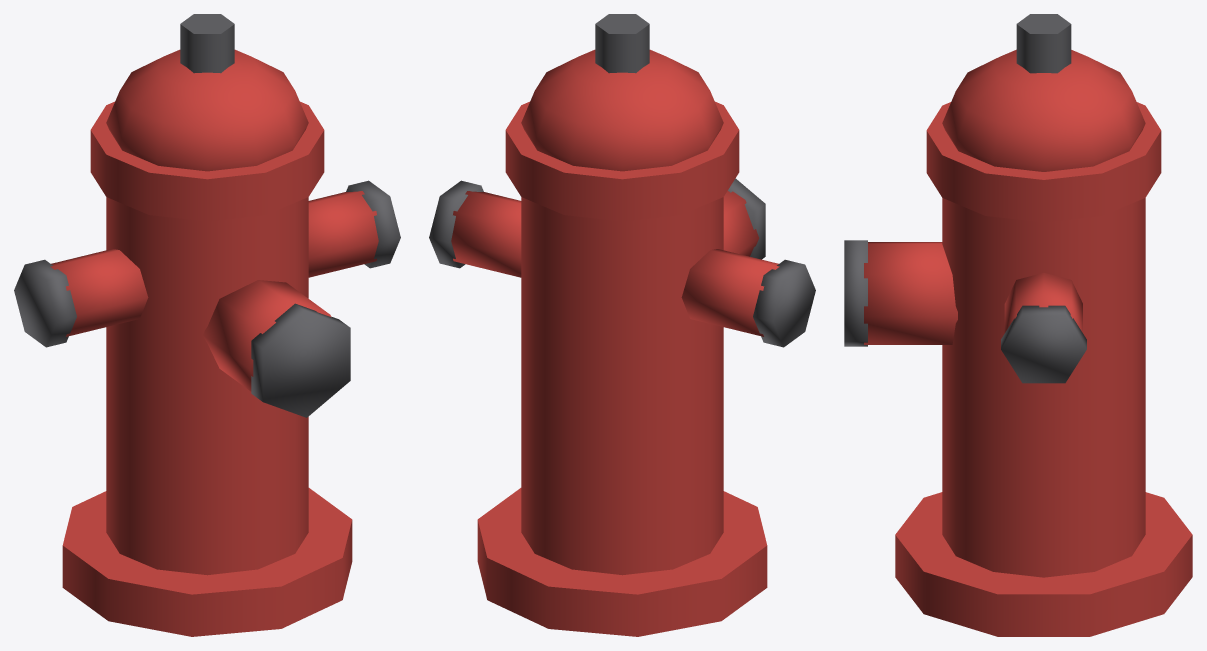
The model's file is Hydrant.glb.
The picture shows the model from 3 angles, left to right: view 1: azimuth 30°, elevation 25°; view 2: azimuth 150°, elevation 25°; view 3: azimuth 270°, elevation 25°; orthographic projection.
Parts seen in each view (by area): view 1: Hydrant_cyl.001, Hydrant_cyl, Hydrant_sphere, Hydrant_cyl.002, Hydrant_cyl.009, Hydrant_cyl.008, Hydrant_cyl.004, Hydrant_cyl.006, Hydrant_cyl.005, Hydrant_cyl.003, Hydrant_cyl.007; view 2: Hydrant_cyl.001, Hydrant_cyl, Hydrant_sphere, Hydrant_cyl.002, Hydrant_cyl.004, Hydrant_cyl.006, Hydrant_cyl.005, Hydrant_cyl.003, Hydrant_cyl.007, Hydrant_cyl.008, Hydrant_cyl.009; view 3: Hydrant_cyl.001, Hydrant_cyl, Hydrant_sphere, Hydrant_cyl.002, Hydrant_cyl.008, Hydrant_cyl.007, Hydrant_cyl.003, Hydrant_cyl.006, Hydrant_cyl.009.
Boxes of the visible parts, left/top/right/bottom form: Hydrant_cyl.001: left=106, top=197, right=308, bottom=575; Hydrant_cyl: left=62, top=488, right=352, bottom=636; Hydrant_sphere: left=106, top=49, right=308, bottom=171; Hydrant_cyl.002: left=90, top=101, right=324, bottom=221; Hydrant_cyl.009: left=251, top=303, right=350, bottom=417; Hydrant_cyl.008: left=203, top=280, right=331, bottom=391; Hydrant_cyl.004: left=50, top=249, right=148, bottom=336; Hydrant_cyl.006: left=308, top=191, right=378, bottom=277; Hydrant_cyl.005: left=14, top=259, right=76, bottom=347; Hydrant_cyl.003: left=180, top=14, right=234, bottom=73; Hydrant_cyl.007: left=346, top=180, right=400, bottom=268; Hydrant_cyl.001: left=521, top=197, right=723, bottom=575; Hydrant_cyl: left=477, top=488, right=767, bottom=636; Hydrant_sphere: left=521, top=49, right=723, bottom=171; Hydrant_cyl.002: left=505, top=101, right=739, bottom=221; Hydrant_cyl.004: left=681, top=249, right=779, bottom=336; Hydrant_cyl.006: left=451, top=191, right=521, bottom=277; Hydrant_cyl.005: left=753, top=259, right=815, bottom=347; Hydrant_cyl.003: left=595, top=14, right=649, bottom=73; Hydrant_cyl.007: left=429, top=180, right=483, bottom=268; Hydrant_cyl.008: left=723, top=191, right=759, bottom=256; Hydrant_cyl.009: left=728, top=178, right=765, bottom=259; Hydrant_cyl.001: left=942, top=198, right=1145, bottom=577; Hydrant_cyl: left=895, top=492, right=1192, bottom=636; Hydrant_sphere: left=942, top=49, right=1145, bottom=171; Hydrant_cyl.002: left=926, top=102, right=1161, bottom=222; Hydrant_cyl.008: left=864, top=242, right=957, bottom=344; Hydrant_cyl.007: left=1001, top=305, right=1086, bottom=383; Hydrant_cyl.003: left=1016, top=14, right=1071, bottom=73; Hydrant_cyl.006: left=1004, top=272, right=1082, bottom=332; Hydrant_cyl.009: left=844, top=240, right=867, bottom=346.
Size of the model in its own units: 0.51 by 0.78 by 0.445.
